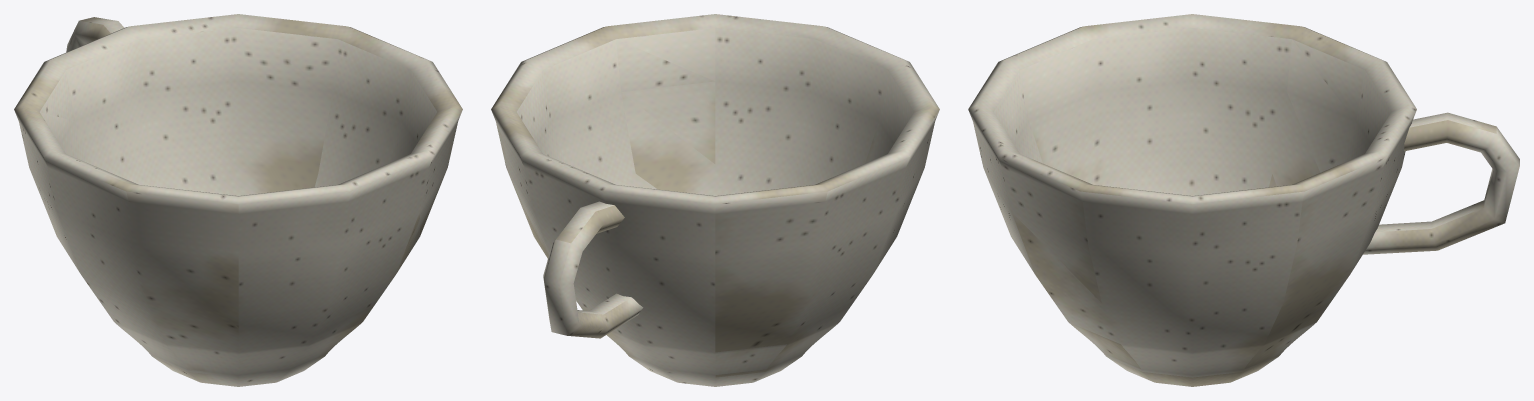
Rendered from Teacup.fbx.
3 renders of one model, left to right at view 1: azimuth 30°, elevation 25°; view 2: azimuth 150°, elevation 25°; view 3: azimuth 270°, elevation 25°, orthographic.
Visible parts, largest first — view 1: Teacup.001, Teacup; view 2: Teacup.001, Teacup; view 3: Teacup.001, Teacup.
Boxes of the visible parts, box(x1,y1,x2,y2) form: Teacup.001: box(14, 14, 462, 386); Teacup: box(66, 17, 124, 52); Teacup.001: box(491, 14, 939, 386); Teacup: box(543, 201, 643, 338); Teacup.001: box(968, 14, 1416, 386); Teacup: box(1363, 112, 1519, 254).
Size of the model in its own units: 0.15 by 0.0922 by 0.1843.
1 material, 1 textured.
